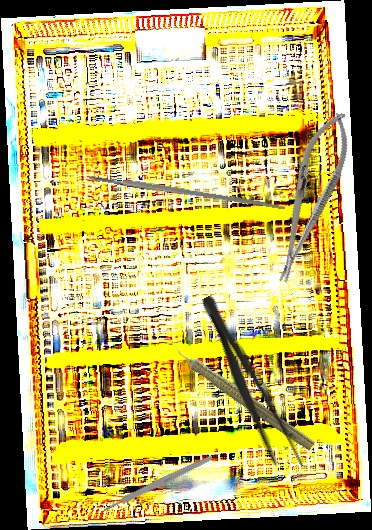Dressing Forceps: (191, 290, 309, 478)
Handpiece: (164, 336, 320, 454)
Needle Holder: (261, 105, 361, 289)
Scalpel Handle: (88, 172, 286, 212), (102, 454, 214, 513)
